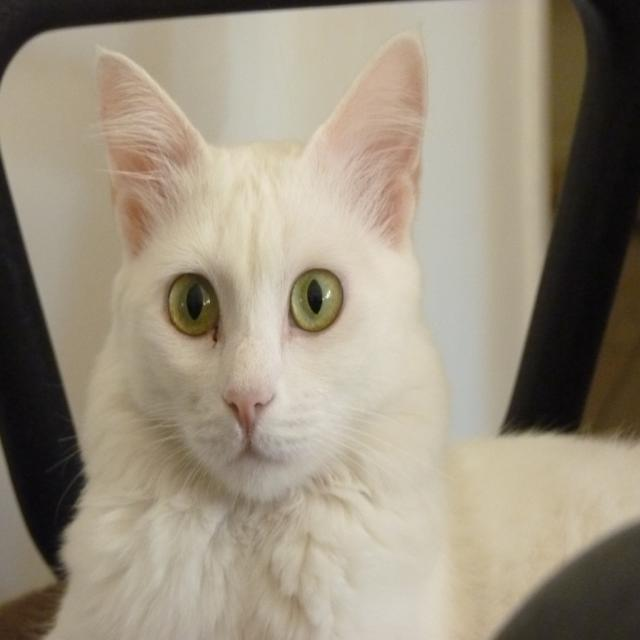Cat: (25, 21, 639, 639)
